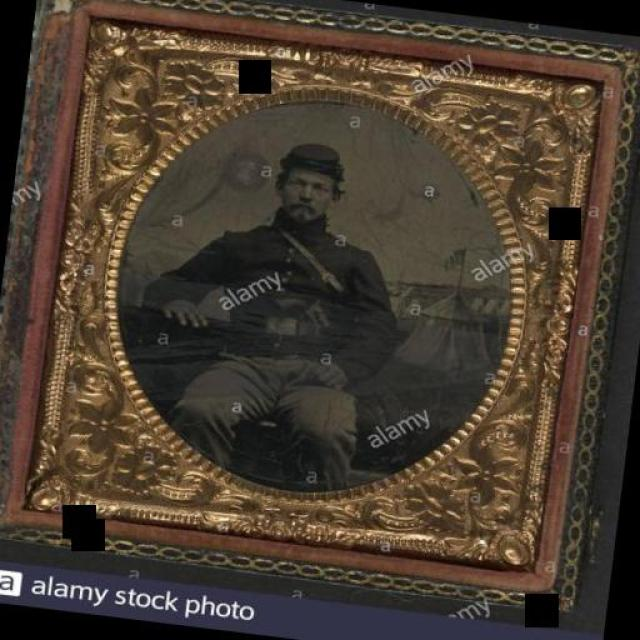gun: (265, 289, 341, 330)
